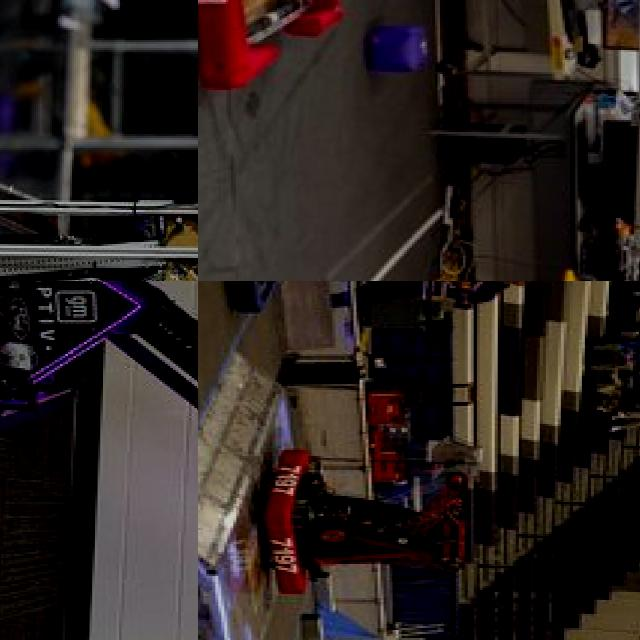FRC-Robots: (198, 0, 640, 281), (0, 281, 198, 640), (246, 410, 514, 624), (0, 19, 198, 281), (216, 281, 569, 327)
